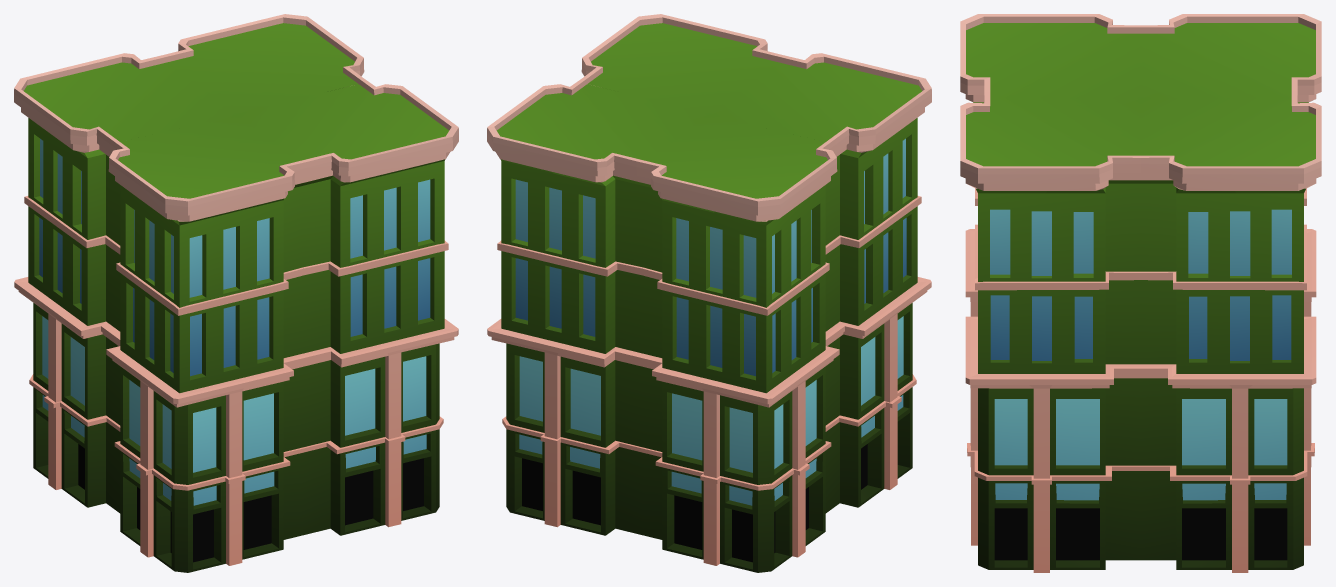
Rendered from liveBuildingGreen.fbx.
3 views of the same model, side by side, from view 1: azimuth 30°, elevation 25°; view 2: azimuth 150°, elevation 25°; view 3: azimuth 270°, elevation 25° (orthographic). The views are drawn at different scales.
Visible parts, largest first — view 1: House.005; view 2: House.005; view 3: House.005.
Part boxes in pixels (box(x1,y1,x2,y2)): House.005: box(14, 14, 458, 572); House.005: box(487, 14, 931, 572); House.005: box(960, 14, 1321, 572).
Bounding box in the file's own units: 2119 × 2618 × 2098.
4 materials, 3 textured.
